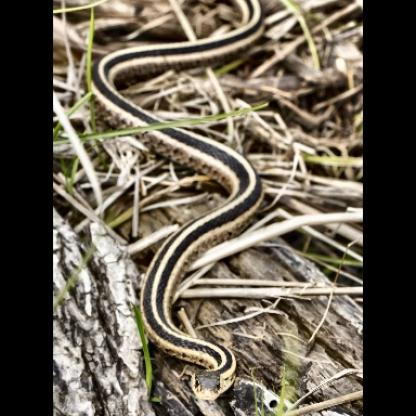Snake: (93, 62, 262, 232), (138, 240, 242, 404)
